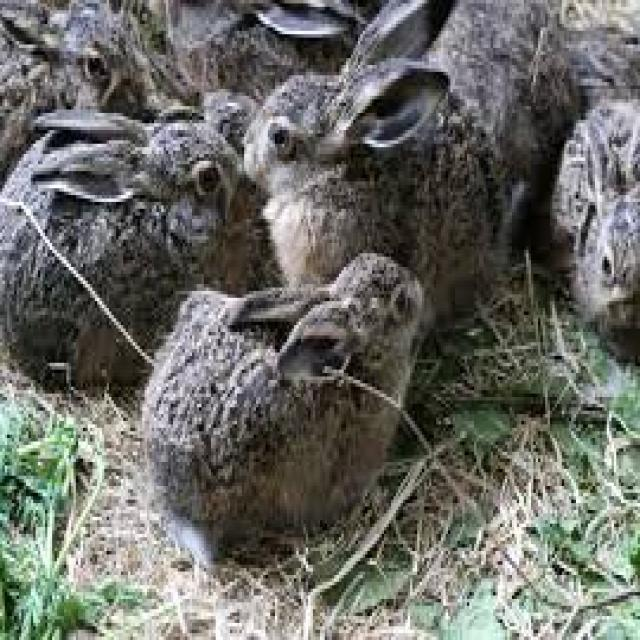Hare: (132, 253, 432, 549), (241, 8, 503, 309), (0, 65, 246, 365)
